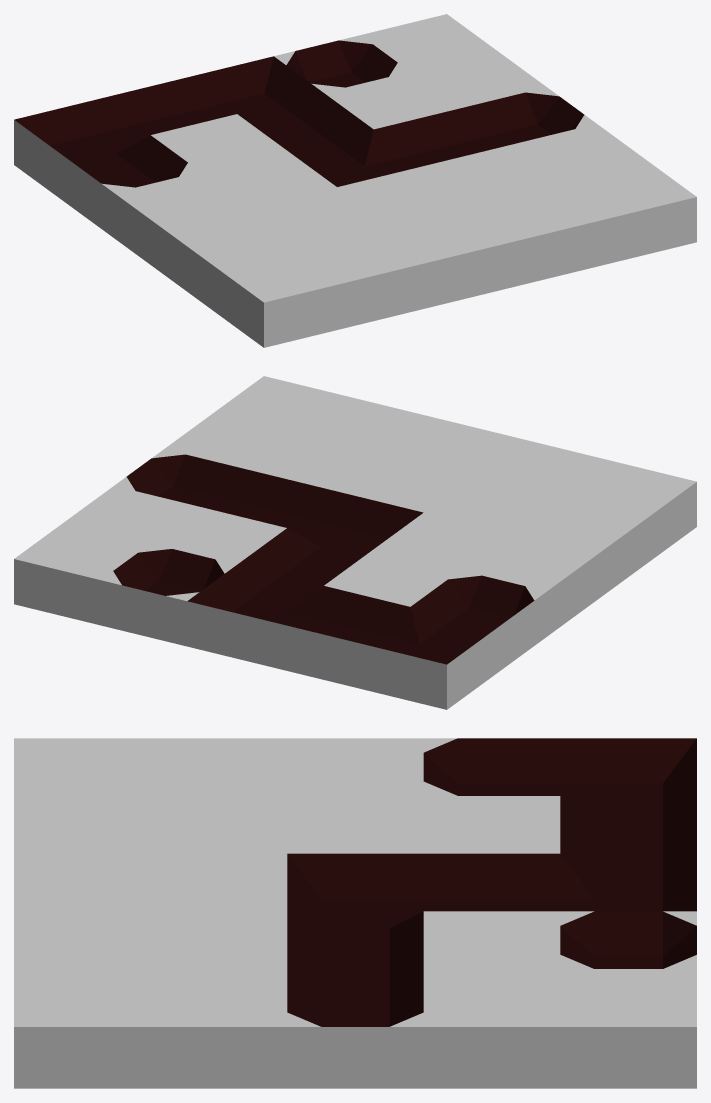
3 views of the same model, one above another, from view 1: azimuth 30°, elevation 25°; view 2: azimuth 150°, elevation 25°; view 3: azimuth 270°, elevation 25° (orthographic). The views are drawn at different scales.
Visible parts, largest first — view 1: foil.block.0.0_block.018, foil.block.3.0_block.027, foil.block.1.0_block.021, foil.block.4.0_block.031, foil.block.2.0_block.025, foil.corner.0.4_corner.006, foil.block.0.2_block.020, foil.block.0.1_block.019, foil.corner.2.4_corner.008, foil.ending.0.3_ending.003, foil.ending.4.2_ending.004, foil.through.1.4_through.002 (+13 smaller); view 2: foil.corner.0.4_corner.006, foil.through.1.4_through.002, foil.block.3.4_Cube.025, foil.block.4.4_block.034, foil.ending.0.3_ending.003, foil.corner.2.4_corner.008, foil.block.0.0_block.018, foil.block.0.1_block.019, foil.block.0.2_block.020, foil.ending.4.2_ending.004, foil.corner.2.2_corner.007, foil.through.3.2_through.004 (+13 smaller); view 3: foil.block.4.1_block.032, foil.block.4.3_block.033, foil.block.4.0_block.031, foil.block.4.4_block.034, foil.ending.4.2_ending.004, foil.corner.2.2_corner.007, foil.corner.0.4_corner.006, foil.block.2.1_block.026, foil.through.2.3_through.003, foil.block.2.0_block.025, foil.block.0.1_block.019, foil.ending.0.3_ending.003 (+13 smaller).
Boxes of the visible parts, bbox=[...] form: foil.block.0.0_block.018: bbox=[214, 245, 350, 347]; foil.block.3.0_block.027: bbox=[474, 181, 610, 284]; foil.block.1.0_block.021: bbox=[301, 224, 437, 326]; foil.block.4.0_block.031: bbox=[560, 160, 696, 263]; foil.block.2.0_block.025: bbox=[387, 202, 523, 305]; foil.corner.0.4_corner.006: bbox=[14, 98, 149, 201]; foil.block.0.2_block.020: bbox=[114, 172, 249, 274]; foil.block.0.1_block.019: bbox=[164, 208, 299, 310]; foil.corner.2.4_corner.008: bbox=[187, 56, 323, 130]; foil.ending.0.3_ending.003: bbox=[64, 135, 200, 237]; foil.ending.4.2_ending.004: bbox=[460, 87, 596, 150]; foil.through.1.4_through.002: bbox=[100, 77, 213, 144]; foil.corner.0.4_corner.006: bbox=[360, 607, 496, 709]; foil.through.1.4_through.002: bbox=[273, 586, 410, 688]; foil.block.3.4_Cube.025: bbox=[100, 543, 236, 646]; foil.block.4.4_block.034: bbox=[14, 522, 150, 625]; foil.ending.0.3_ending.003: bbox=[411, 570, 546, 672]; foil.corner.2.4_corner.008: bbox=[187, 565, 323, 667]; foil.block.0.0_block.018: bbox=[561, 460, 696, 563]; foil.block.0.1_block.019: bbox=[510, 497, 646, 599]; foil.block.0.2_block.020: bbox=[461, 534, 596, 636]; foil.ending.4.2_ending.004: bbox=[114, 449, 250, 512]; foil.corner.2.2_corner.007: bbox=[287, 491, 423, 565]; foil.through.3.2_through.004: bbox=[224, 470, 336, 537]; foil.block.4.1_block.032: bbox=[150, 969, 287, 1088]; foil.block.4.3_block.033: bbox=[423, 969, 560, 1088]; foil.block.4.0_block.031: bbox=[14, 969, 150, 1088]; foil.block.4.4_block.034: bbox=[560, 969, 696, 1088]; foil.ending.4.2_ending.004: bbox=[287, 969, 423, 1088]; foil.corner.2.2_corner.007: bbox=[287, 853, 423, 942]; foil.corner.0.4_corner.006: bbox=[560, 738, 696, 826]; foil.block.2.1_block.026: bbox=[150, 853, 287, 911]; foil.through.2.3_through.003: bbox=[423, 853, 560, 911]; foil.block.2.0_block.025: bbox=[14, 853, 150, 911]; foil.block.0.1_block.019: bbox=[150, 738, 287, 795]; foil.ending.0.3_ending.003: bbox=[423, 738, 560, 795].
Size of the model in its own units: 10 by 1 by 10.
